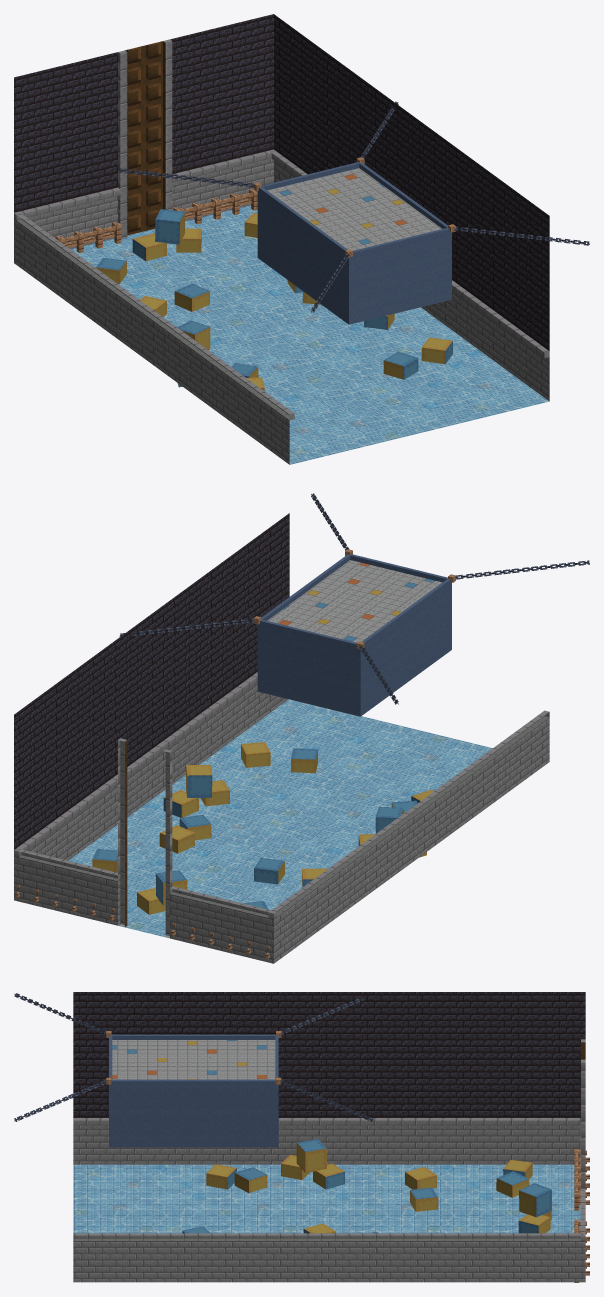
File: map_1_sep.fbx
3 views of the same model, one above another, from view 1: azimuth 30°, elevation 25°; view 2: azimuth 150°, elevation 25°; view 3: azimuth 270°, elevation 25° (orthographic). The views are drawn at different scales.
Visible parts, largest first — view 1: map_1, map_1.002, map_1.001; view 2: map_1, map_1.002, map_1.001; view 3: map_1, map_1.002, map_1.001.
Boxes of the visible parts, bbox=[...] form: map_1: bbox=[14, 14, 549, 464]; map_1.002: bbox=[257, 162, 451, 324]; map_1.001: bbox=[119, 101, 589, 312]; map_1: bbox=[14, 513, 549, 963]; map_1.002: bbox=[257, 554, 451, 716]; map_1.001: bbox=[119, 493, 589, 704]; map_1: bbox=[73, 992, 589, 1282]; map_1.002: bbox=[109, 1034, 278, 1147]; map_1.001: bbox=[14, 993, 373, 1121].
Size of the model in its own units: 65.58 by 43.79 by 126.
8 materials, 8 textured.
